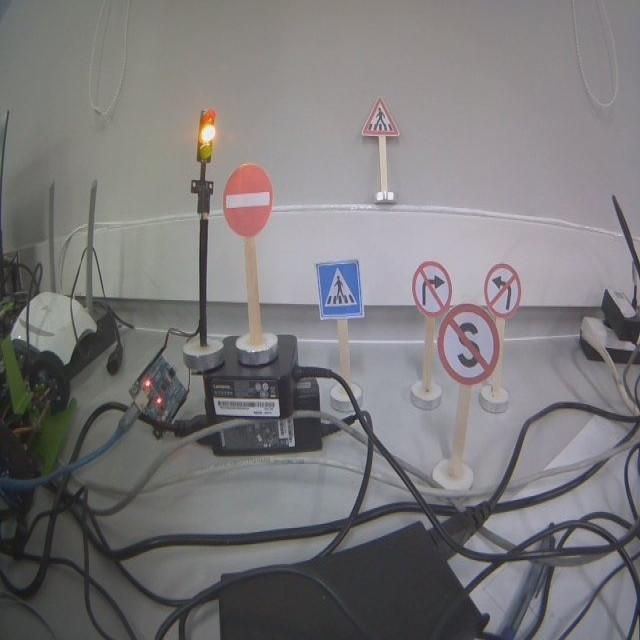Dilarang Belok Kanan: (411, 262, 450, 314)
Dilarang Belok Kiri: (483, 263, 521, 316)
Dilarang Masuk: (222, 164, 273, 239)
Lampu Kuning: (198, 110, 218, 166)
Rambu Berhenti: (438, 305, 497, 383)
Rambu Penyebrangan: (316, 259, 363, 317), (362, 99, 399, 136)
